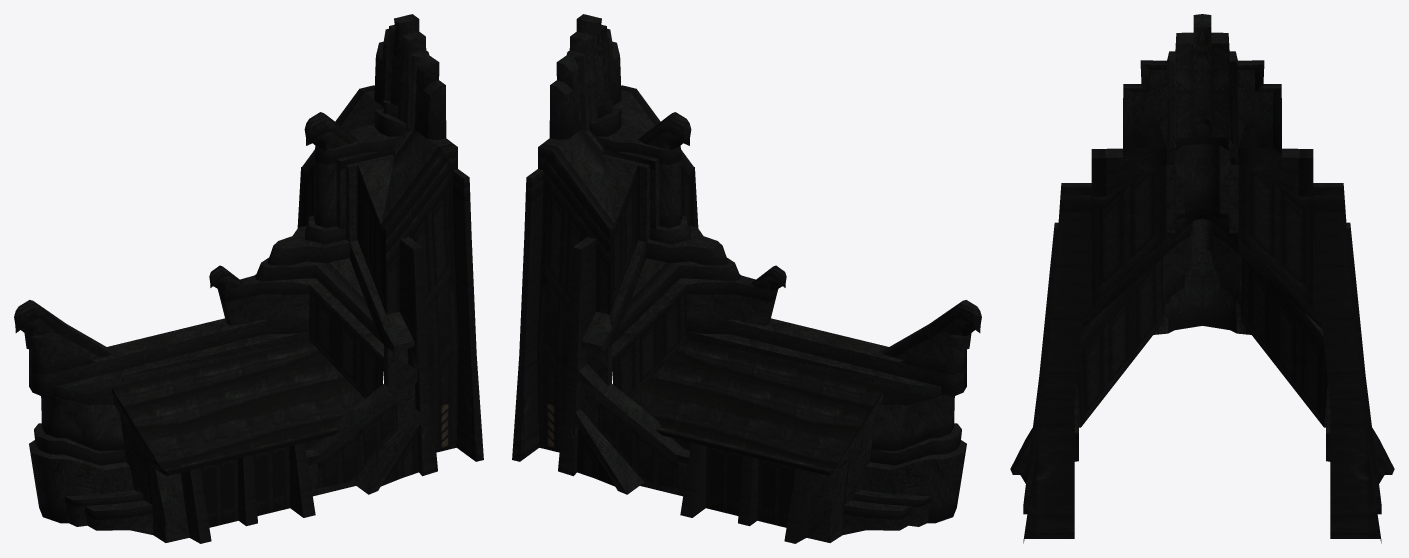
Rendered from SOVMeadHall_01.obj.
The picture shows the model from 3 angles, left to right: view 1: azimuth 30°, elevation 25°; view 2: azimuth 150°, elevation 25°; view 3: azimuth 270°, elevation 25°; orthographic projection. The views are drawn at different scales.
Parts seen in each view (by area): view 1: SOVMeadHall01_LOD_0; view 2: SOVMeadHall01_LOD_0; view 3: SOVMeadHall01_LOD_0.
Boxes of the visible parts, bbox=[...] form: SOVMeadHall01_LOD_0: bbox=[14, 14, 483, 543]; SOVMeadHall01_LOD_0: bbox=[512, 14, 981, 543]; SOVMeadHall01_LOD_0: bbox=[1010, 14, 1394, 543].
Size of the model in its own units: 8642 by 8614 by 5451.
Materials: 1 (1 with a texture image).
